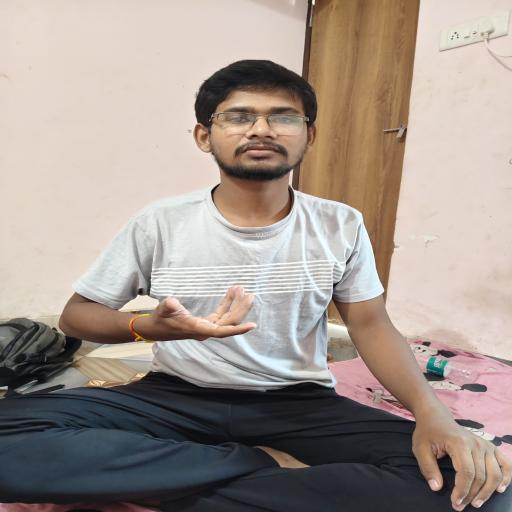Help: (65, 240, 277, 372)
